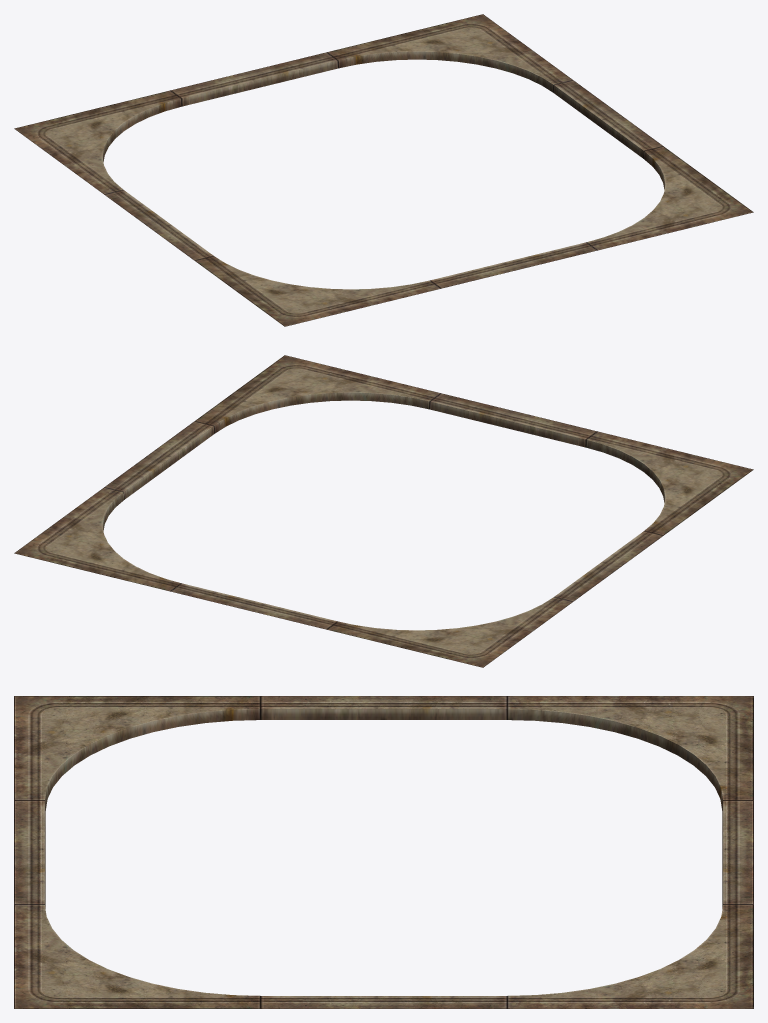
The model's file is 01_02_turbine_hole_pplant.dae.
The picture shows the model from 3 angles, top to bottom: view 1: azimuth 30°, elevation 25°; view 2: azimuth 150°, elevation 25°; view 3: azimuth 270°, elevation 25°; orthographic projection. The views are drawn at different scales.
Visible parts, largest first — view 1: 01_02_turbine_hole; view 2: 01_02_turbine_hole; view 3: 01_02_turbine_hole.
Boxes of the visible parts, box(x1,y1,x2,y2) form: 01_02_turbine_hole: box(14, 14, 753, 326); 01_02_turbine_hole: box(14, 355, 753, 667); 01_02_turbine_hole: box(14, 696, 753, 1008).
Size of the model in its own units: 6 by 0.0938 by 6.
